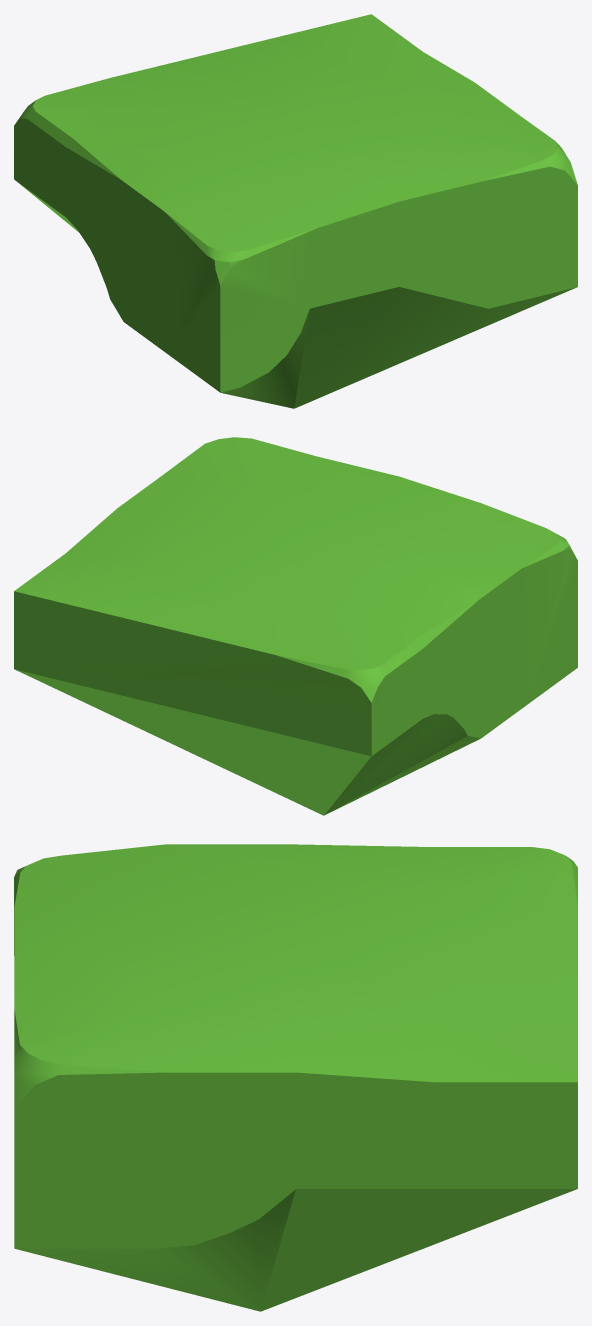
The model's file is PBOX22_Grass_01.FBX.
3 renders of one model, top to bottom at view 1: azimuth 30°, elevation 25°; view 2: azimuth 150°, elevation 25°; view 3: azimuth 270°, elevation 25°, orthographic. The views are drawn at different scales.
Parts seen in each view (by area): view 1: PBOX22_SUB_Grass_002; view 2: PBOX22_SUB_Grass_002; view 3: PBOX22_SUB_Grass_002.
Boxes of the visible parts, x1=… form: PBOX22_SUB_Grass_002: x1=14, y1=14, x2=577, y2=408; PBOX22_SUB_Grass_002: x1=14, y1=437, x2=577, y2=815; PBOX22_SUB_Grass_002: x1=14, y1=844, x2=577, y2=1311.
Bounding box in the file's own units: 12.01 × 8.88 × 12.01.
